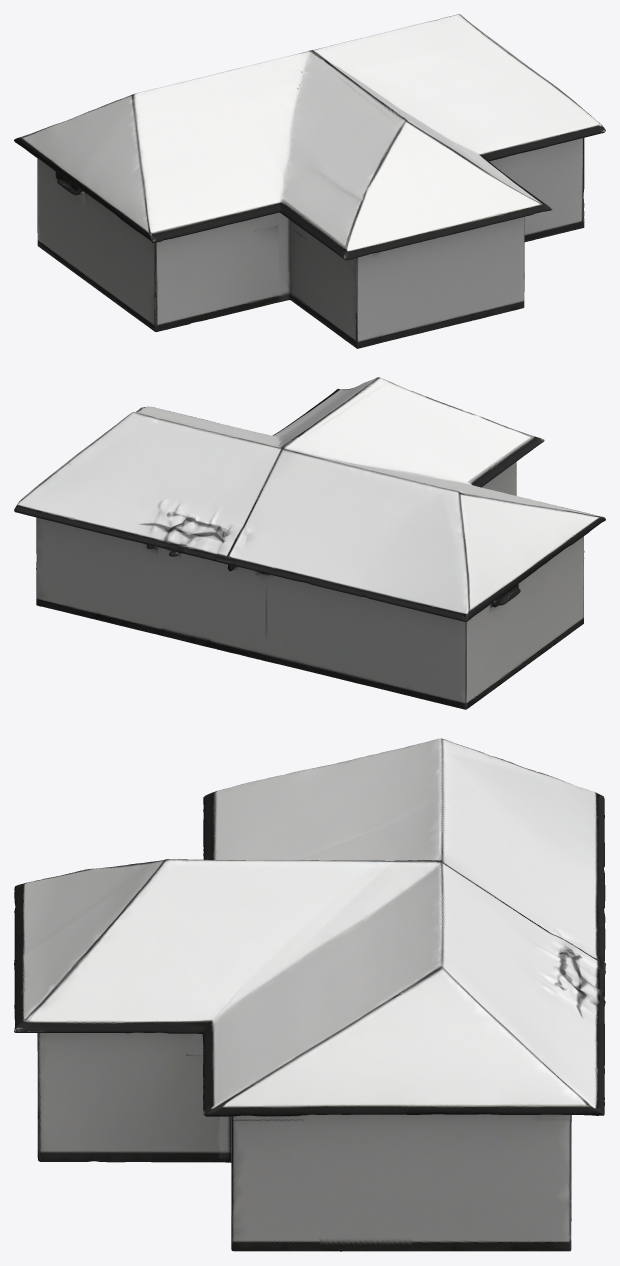
Rendered from model_68fbe07c37346.glb.
The picture shows the model from 3 angles, top to bottom: view 1: azimuth 30°, elevation 25°; view 2: azimuth 150°, elevation 25°; view 3: azimuth 270°, elevation 25°; orthographic projection. The views are drawn at different scales.
Bounding box in the file's own units: 2.01 × 0.7396 × 1.58.
1 material, 1 textured.
